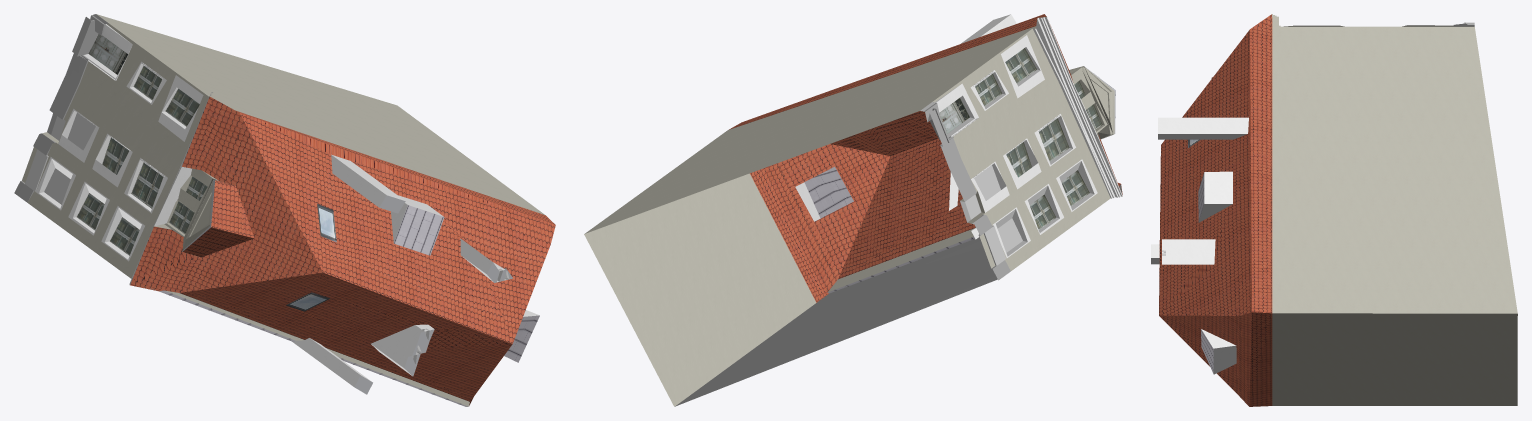
The model's file is Pikk_46-origo.obj.
3 views of the same model, side by side, from view 1: azimuth 30°, elevation 25°; view 2: azimuth 150°, elevation 25°; view 3: azimuth 270°, elevation 25° (orthographic). The views are drawn at different scales.
Visible parts, largest first — view 1: Pikk_46; view 2: Pikk_46; view 3: Pikk_46.
Part boxes in pixels (<box>): Pikk_46: <box>14,14,555,406</box>; Pikk_46: <box>584,14,1122,406</box>; Pikk_46: <box>1151,14,1517,406</box>.
Bounding box in the file's own units: 20.62 × 17 × 19.16.
